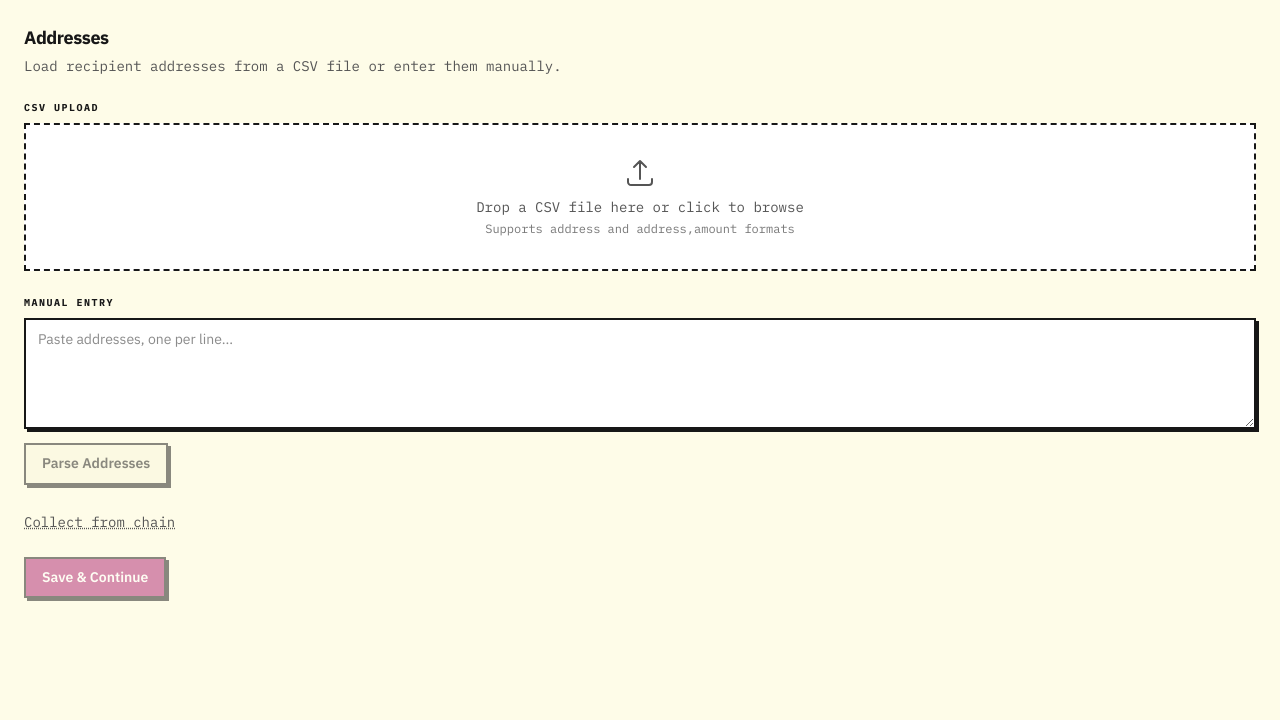
Scenario: AddressesStep › collects addresses from pipeline and merges with existing
The image size is (1280, 720).
What coordinates should you click on to do the following:
click the button "Collect from chain"
I would click on:
 (100, 522)
Its box is [24,512,175,532].
(page scrolled)
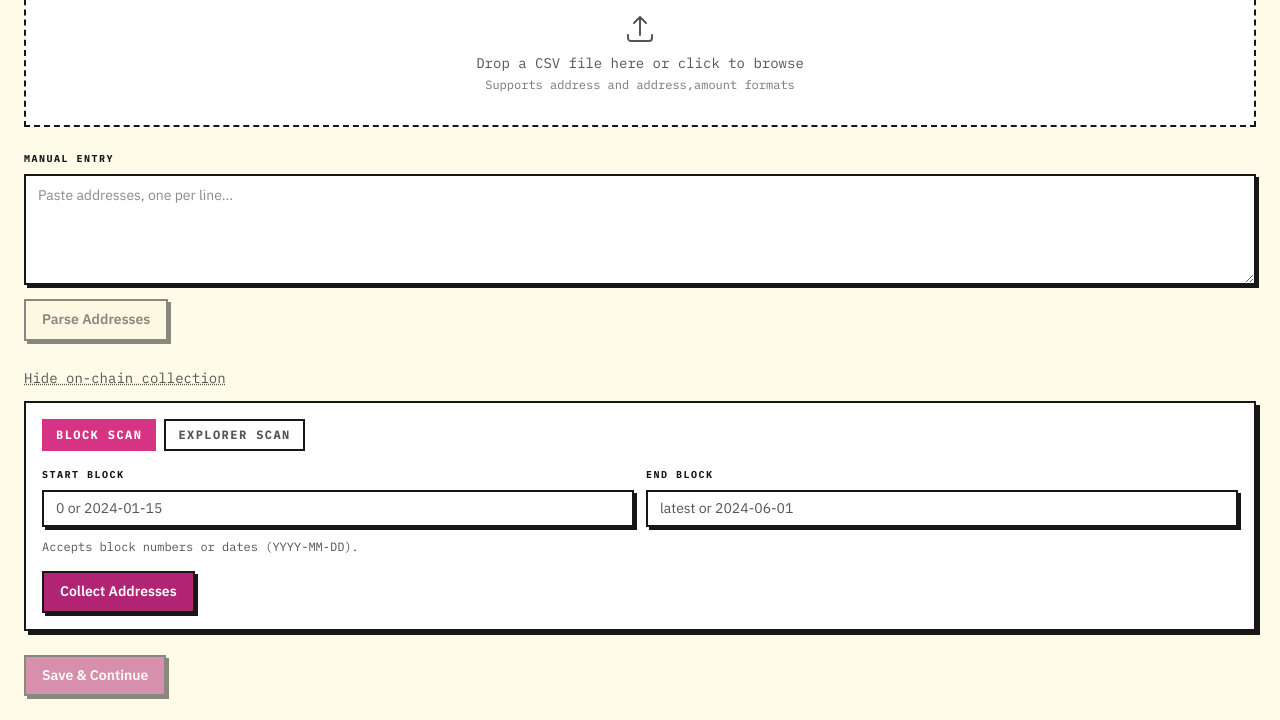
What coordinates should you click on to do the following:
click the button "Collect Addresses"
I would click on:
 (118, 592)
Its box is [42,571,195,612].
(page scrolled)
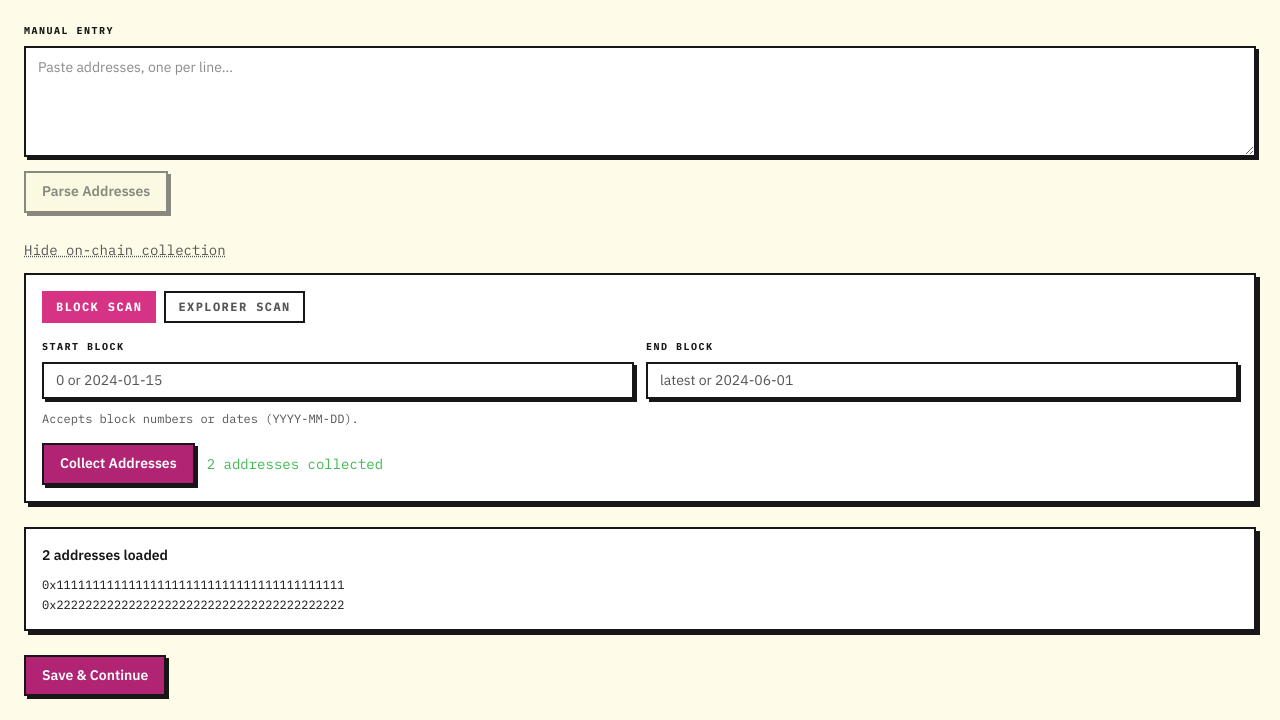
Result: the text "2 addresses collected" is shown at [207,454,383,474]
Result: the text "2 addresses loaded" is shown at [42,544,168,564]
Result: the text "0x1111111111111111111111111111111111111111" is shown at [42,576,344,592]
